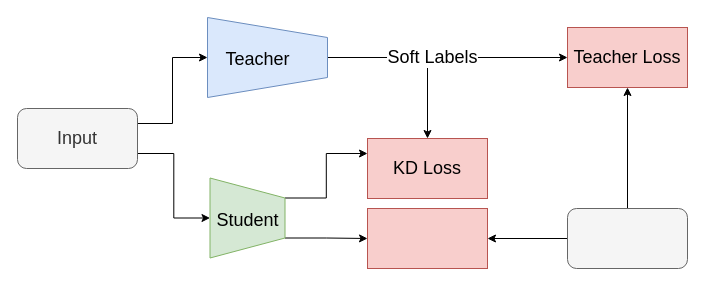
This 705x286 diagram has some shape labels left out. The shapes that lost their labels are listed below. From the top down, each one's centre as x and y in pixels, then its label:
At (x=427, y=238): "Classification Loss".
At (x=627, y=238): "Hard labels".
